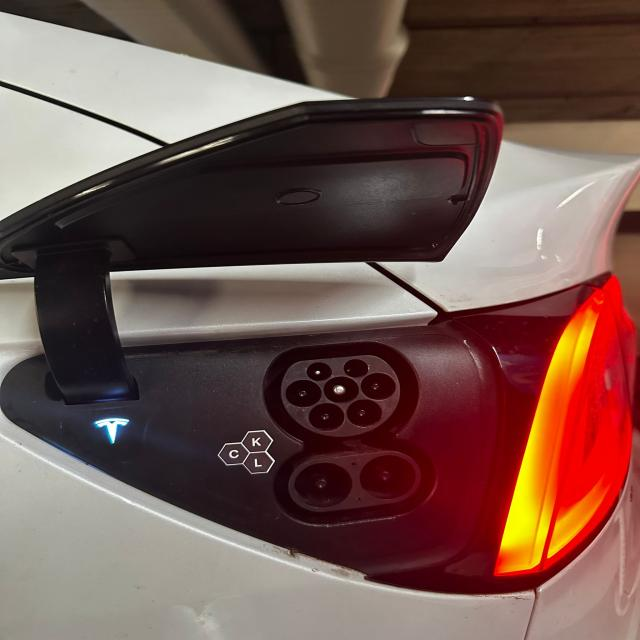inlet: (281, 355, 400, 436)
inlet-above-left: (307, 362, 332, 381)
inlet-above-right: (343, 359, 369, 378)
inlet-below-left: (308, 403, 344, 432)
inlet-below-right: (347, 399, 382, 428)
inlet-circle: (324, 376, 359, 404)
inlet-circle-left: (286, 380, 322, 408)
inlet-circle-right: (361, 372, 396, 400)
inlet-minus: (360, 455, 416, 499)
inlet-plus: (294, 463, 352, 507)
